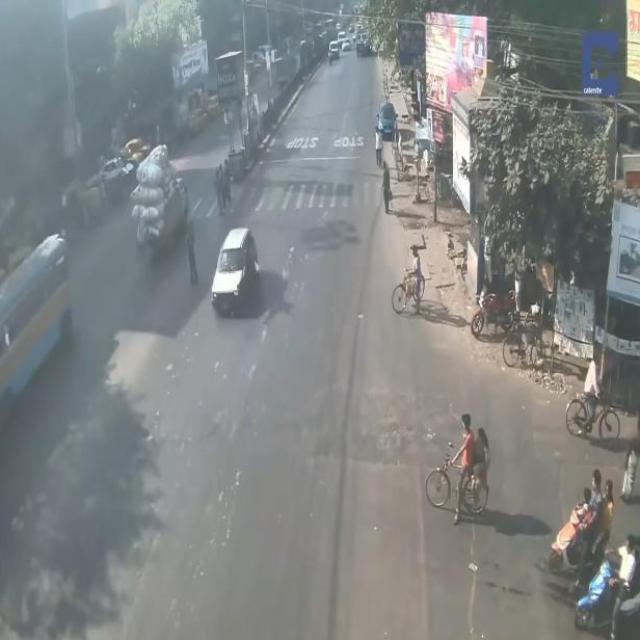accident: (208, 211, 264, 329)
